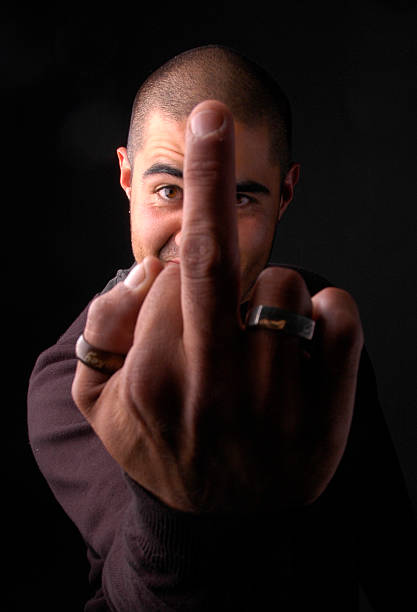insulting_gesture: (69, 103, 365, 542)
